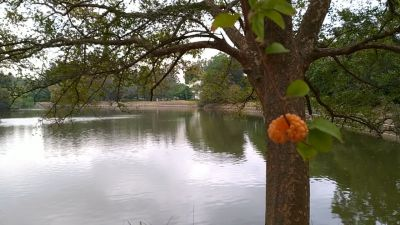eggs: (267, 112, 310, 145)
